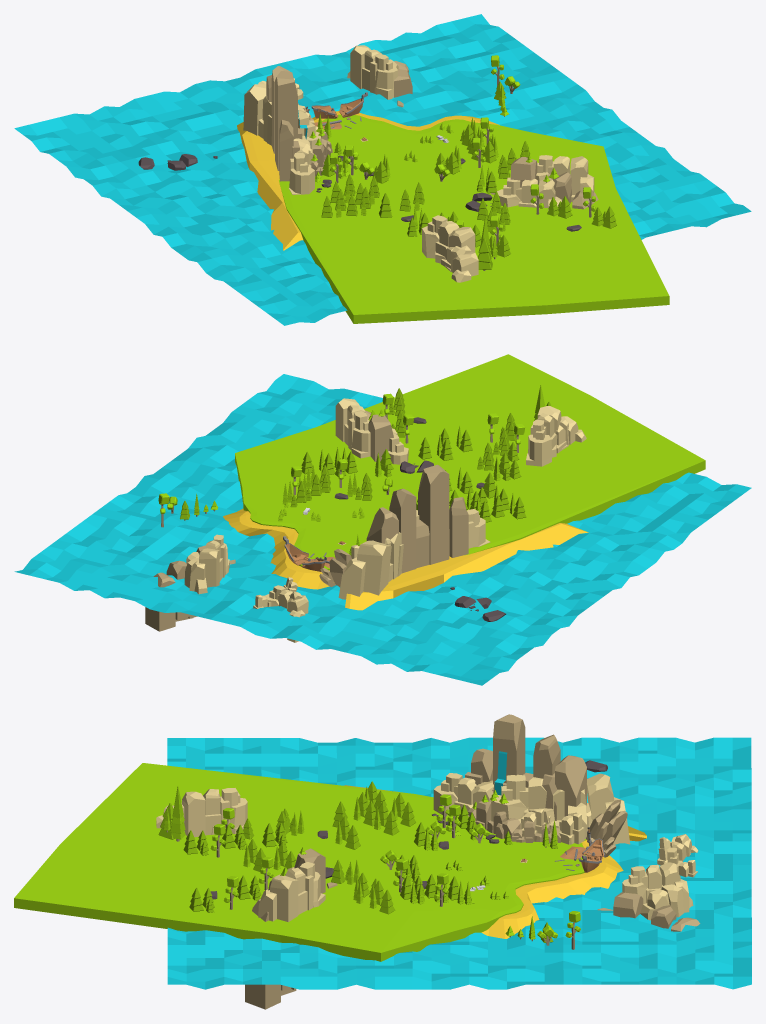
File: newScene.fbx
3 renders of one model, top to bottom at view 1: azimuth 30°, elevation 25°; view 2: azimuth 150°, elevation 25°; view 3: azimuth 270°, elevation 25°, orthographic. The views are drawn at different scales.
Visible parts, largest first — view 1: Plane.003, Cube.001, Cube, Rock_Wall_07.003, Rock_Wall_06.003, Rock_Wall_06.007, Rock_Wall_06.006, Rock_Wall_06.005, Rock_Wall_07.006, Rock_Wall_06.004, Rock_Wall_06.002, Rock_Wall_06.008 (+3 smaller); view 2: Plane.003, Cube.001, Cube, Rock_Wall_07.003, Rock_Wall_06.004, Rock_Wall_06.007, Rock_Wall_06.006, Rock_Wall_06.003, Rock_Wall_07, Rock_Wall_05.003, Rock_Wall_07.006, Cube.002 (+2 smaller); view 3: Plane.003, Cube.001, Rock_Wall_07.003, Cube, Rock_Wall_06.006, Rock_Wall_06.007, Rock_Wall_06.001, Rock_Wall_07.006, Rock_Wall_06.004, Rock_Wall_06.003, Rock_Wall_06.002, Rock_Wall_07 (+8 smaller).
Boxes of the visible parts, x1,y1,x2,y2 form: Plane.003: (14, 14, 751, 325); Cube.001: (279, 114, 669, 323); Cube: (237, 111, 499, 250); Rock_Wall_07.003: (266, 66, 302, 181); Rock_Wall_06.003: (350, 45, 397, 99); Rock_Wall_06.007: (422, 215, 475, 272); Rock_Wall_06.006: (536, 155, 594, 204); Rock_Wall_06.005: (497, 177, 561, 210); Rock_Wall_07.006: (490, 157, 598, 209); Rock_Wall_06.004: (243, 84, 271, 144); Rock_Wall_06.002: (288, 138, 317, 194); Rock_Wall_06.008: (435, 247, 478, 282); Plane.003: (14, 374, 751, 685); Cube.001: (235, 354, 705, 570); Cube: (223, 508, 588, 610); Rock_Wall_07.003: (366, 464, 468, 573); Rock_Wall_06.004: (338, 538, 403, 599); Rock_Wall_06.007: (526, 406, 569, 466); Rock_Wall_06.006: (335, 398, 370, 458); Rock_Wall_06.003: (189, 534, 229, 591); Rock_Wall_07: (145, 545, 235, 631); Rock_Wall_05.003: (253, 577, 308, 642); Rock_Wall_07.006: (365, 410, 393, 461); Cube.002: (283, 536, 335, 571); Plane.003: (167, 737, 751, 989); Cube.001: (14, 763, 586, 961); Rock_Wall_07.003: (465, 714, 586, 820); Cube: (344, 785, 646, 938); Rock_Wall_06.006: (258, 862, 325, 922); Rock_Wall_06.007: (181, 788, 247, 837); Rock_Wall_06.001: (491, 774, 586, 838); Rock_Wall_07.006: (245, 848, 337, 1009); Rock_Wall_06.004: (528, 773, 630, 844); Rock_Wall_06.003: (622, 862, 689, 912); Rock_Wall_06.002: (433, 773, 493, 815); Rock_Wall_07: (597, 892, 700, 931).
Size of the model in its own units: 3645 by 1277 by 4600.
